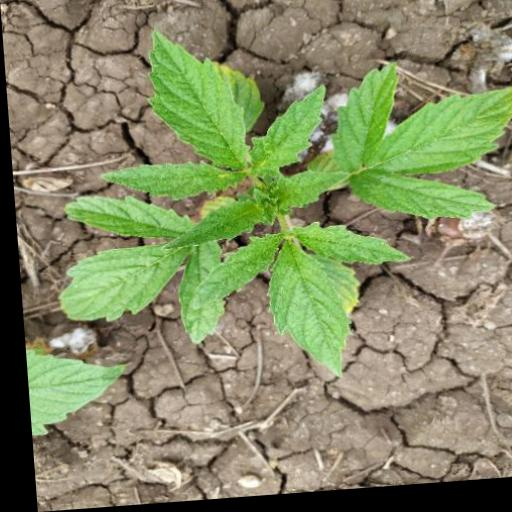crop: (36, 20, 512, 424)
